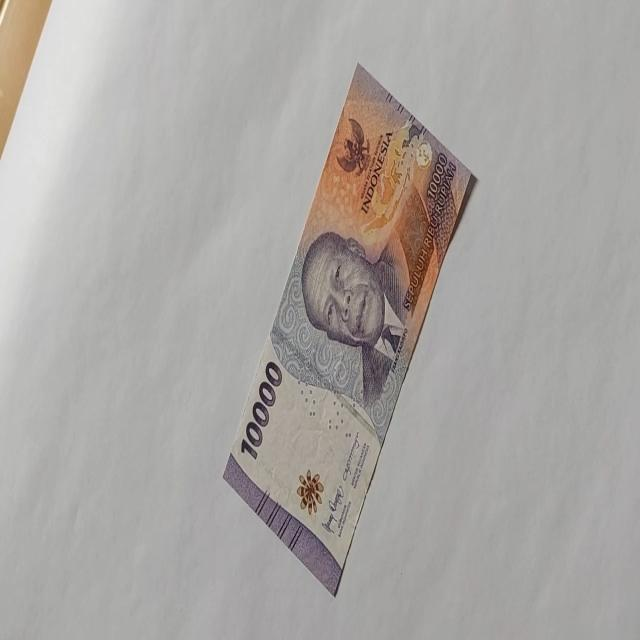sepuluh ribu rupiah: (222, 61, 476, 596), (300, 228, 410, 408)
